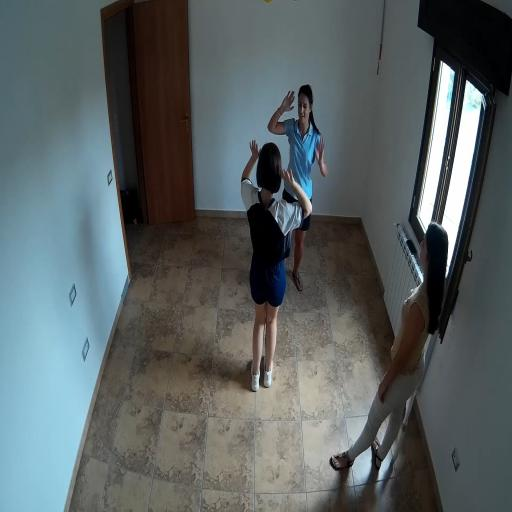nao-violencia: (231, 72, 333, 402)
